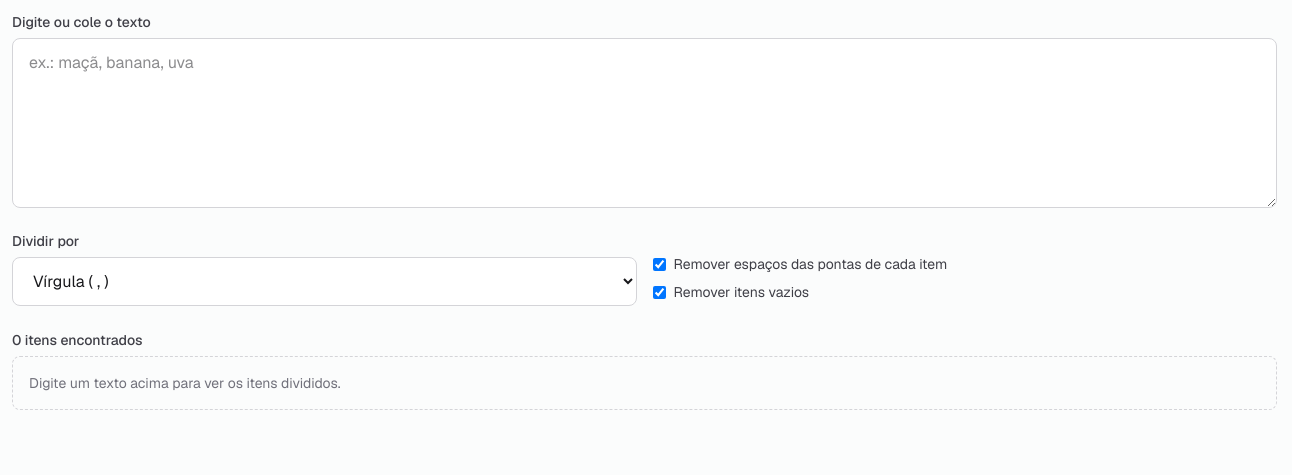
Test: DividirStringTool › divide por vírgula por padrão
Type "maçã, banana, uva" into the text box labelled "Digite ou cole o texto" at x=644, y=123, box [12,38,1277,208]
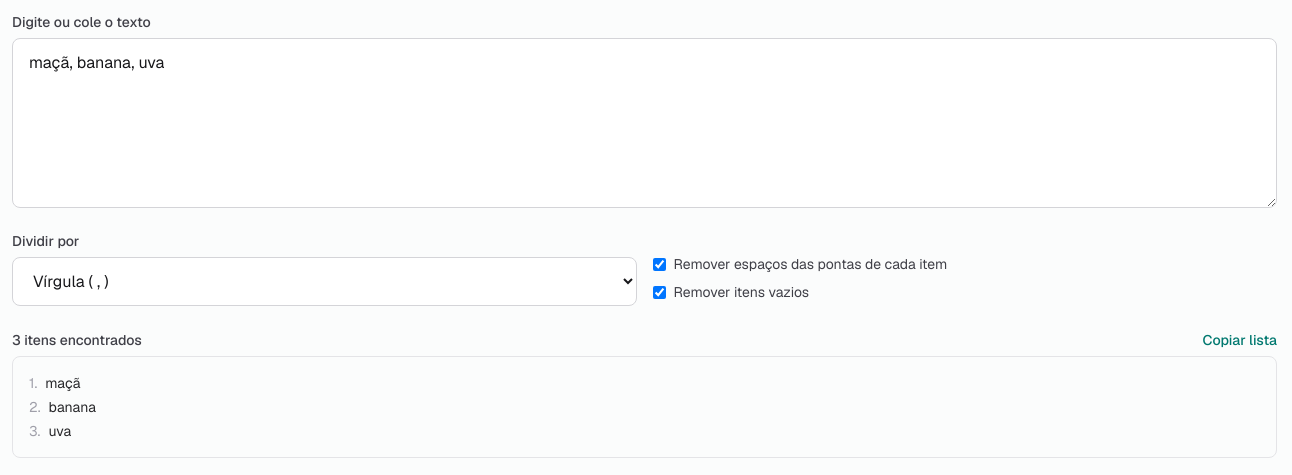
Now the text "3 itens encontrados" is shown, box [12,330,142,350]
Now the text "maçã" is shown, box [45,374,80,392]
Now the text "banana" is shown, box [48,398,96,416]
